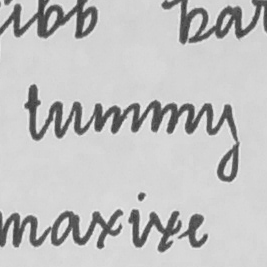m: (147, 98, 198, 136), (90, 100, 142, 135)
t: (22, 82, 48, 142)
u: (50, 98, 84, 141)
y: (202, 100, 242, 184)
